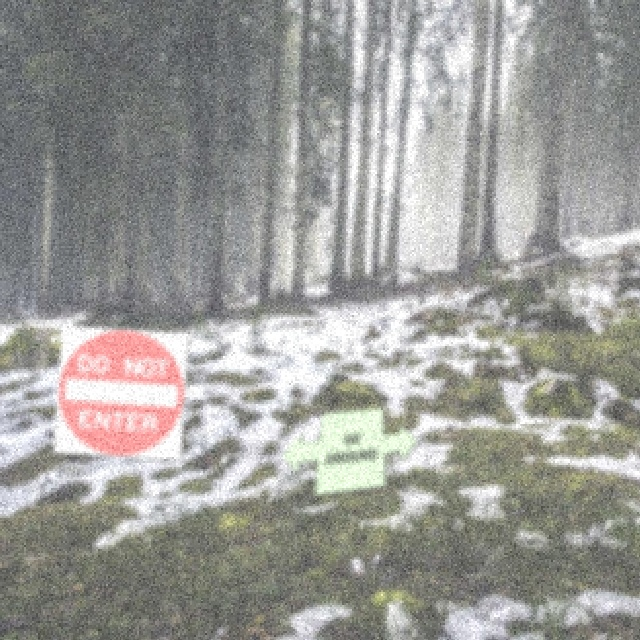DO_NOT_ENTER: (51, 323, 189, 460)
GO_AROUND: (279, 406, 417, 495)
